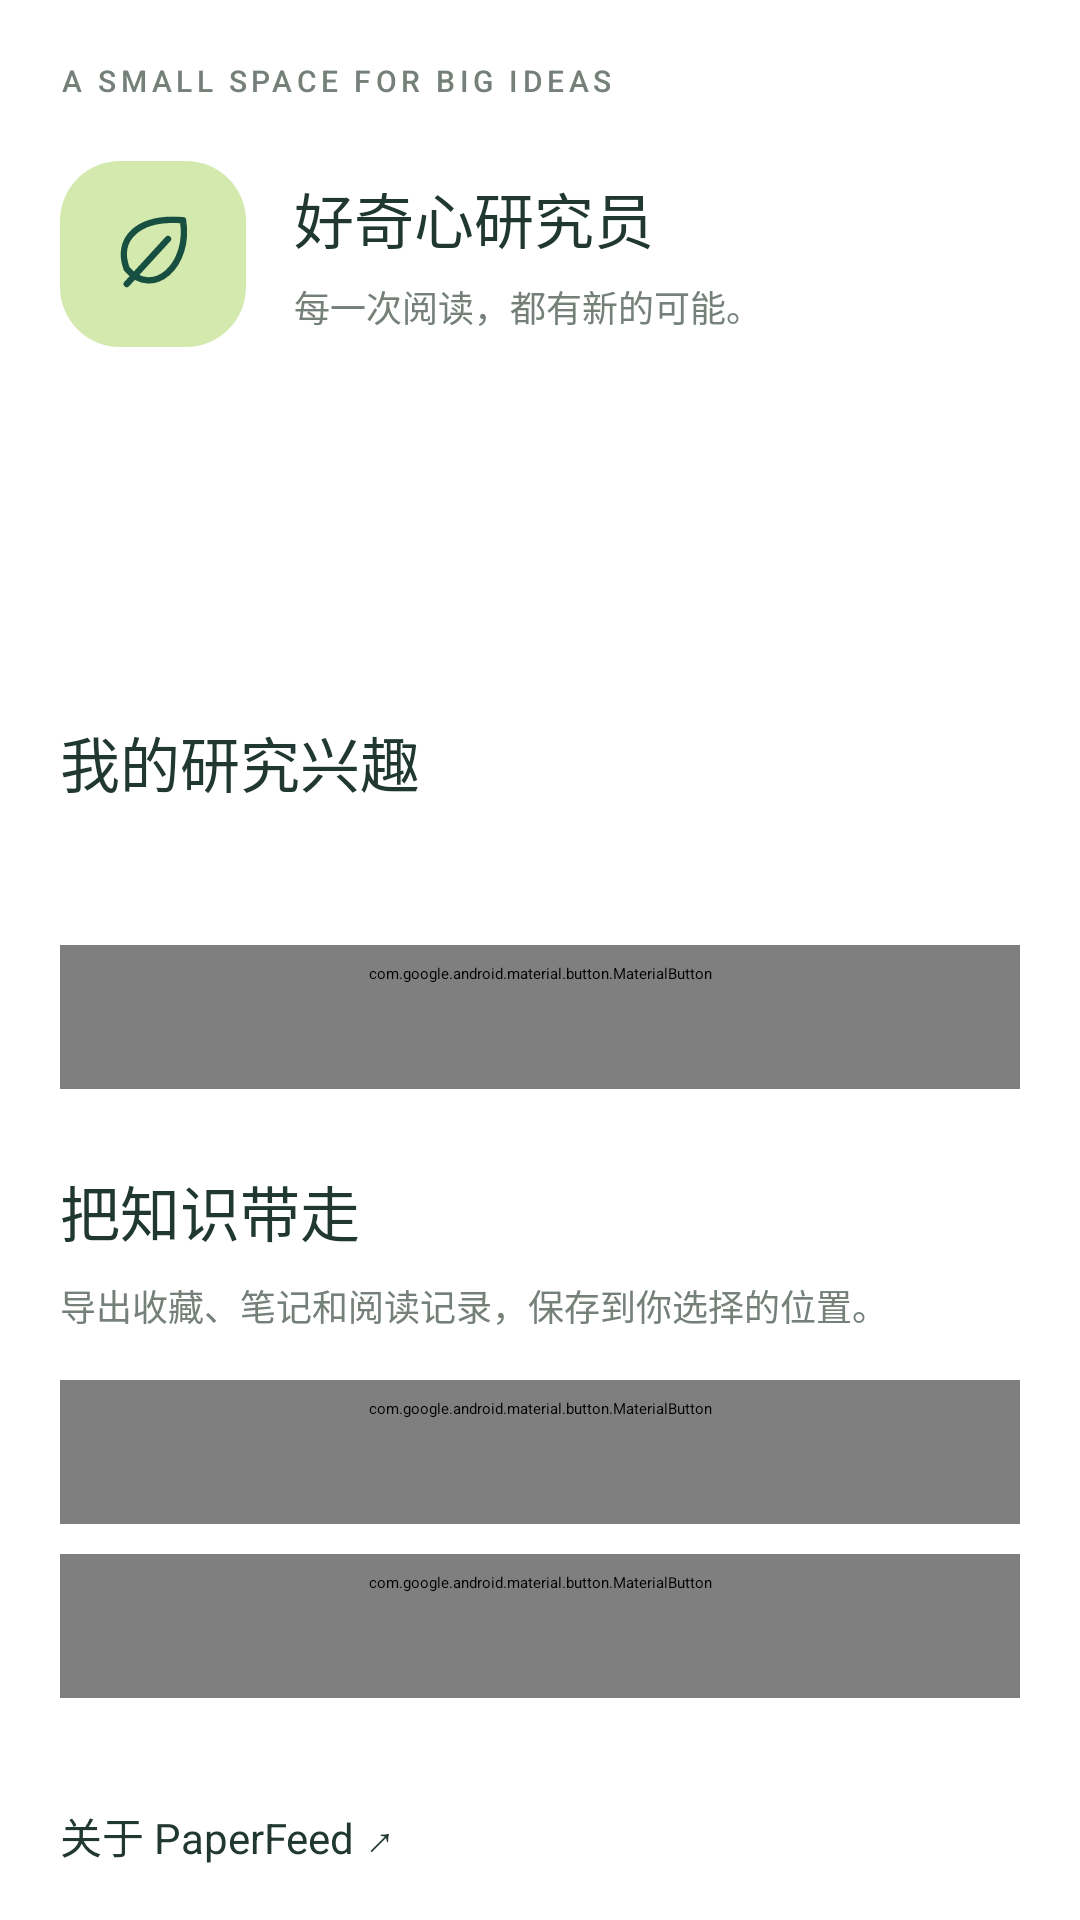

Screen size 1080w x 1920h. Icon name, then its box in pixels as region(x1, y1, x2, y2):
leaf: region(60, 161, 246, 347)
